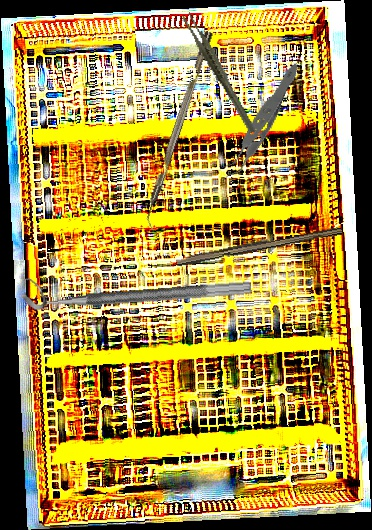Chopper: (139, 30, 223, 231)
Fixation Ring: (20, 262, 252, 311)
Scalpel Handle: (175, 221, 343, 270)
Tissue Forceps: (187, 61, 330, 183), (181, 4, 257, 142)
